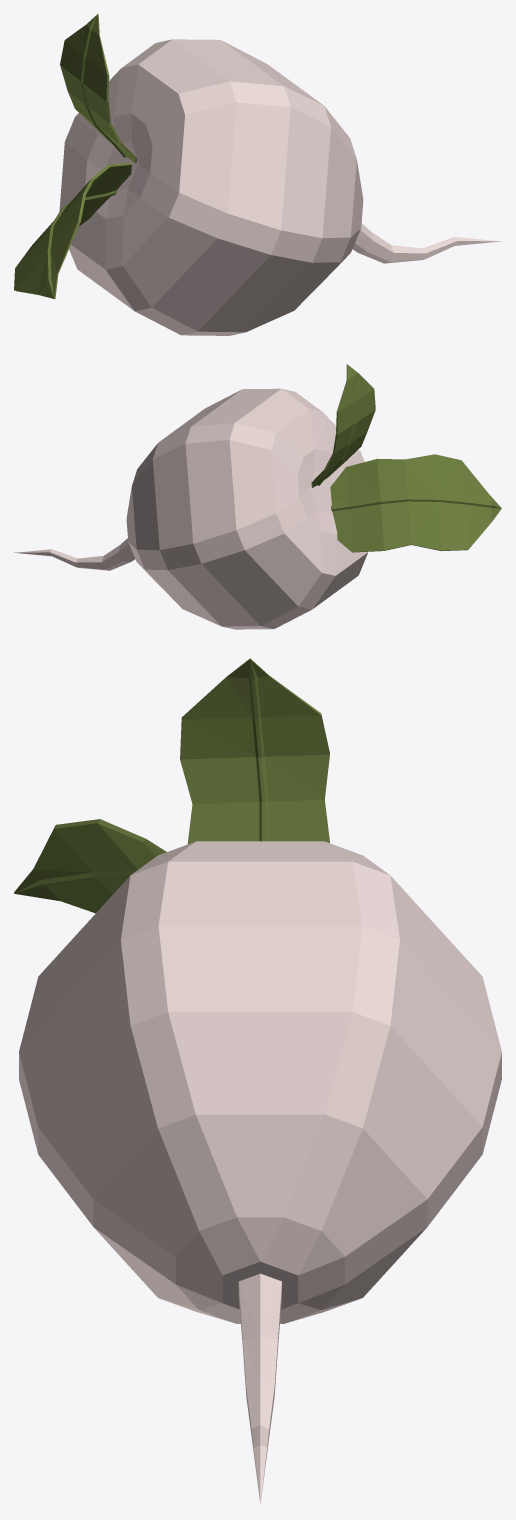
Rendered from Rettich.fbx.
3 views of the same model, one above another, from view 1: azimuth 30°, elevation 25°; view 2: azimuth 150°, elevation 25°; view 3: azimuth 270°, elevation 25° (orthographic). The views are drawn at different scales.
Parts seen in each view (by area): view 1: Sphere.002; view 2: Sphere.002; view 3: Sphere.002.
Part boxes in pixels (bbox=[...]): Sphere.002: bbox=[14, 14, 500, 335]; Sphere.002: bbox=[14, 364, 501, 629]; Sphere.002: bbox=[14, 658, 501, 1504].
Size of the model in its own units: 28.62 by 17.1 by 14.32.
